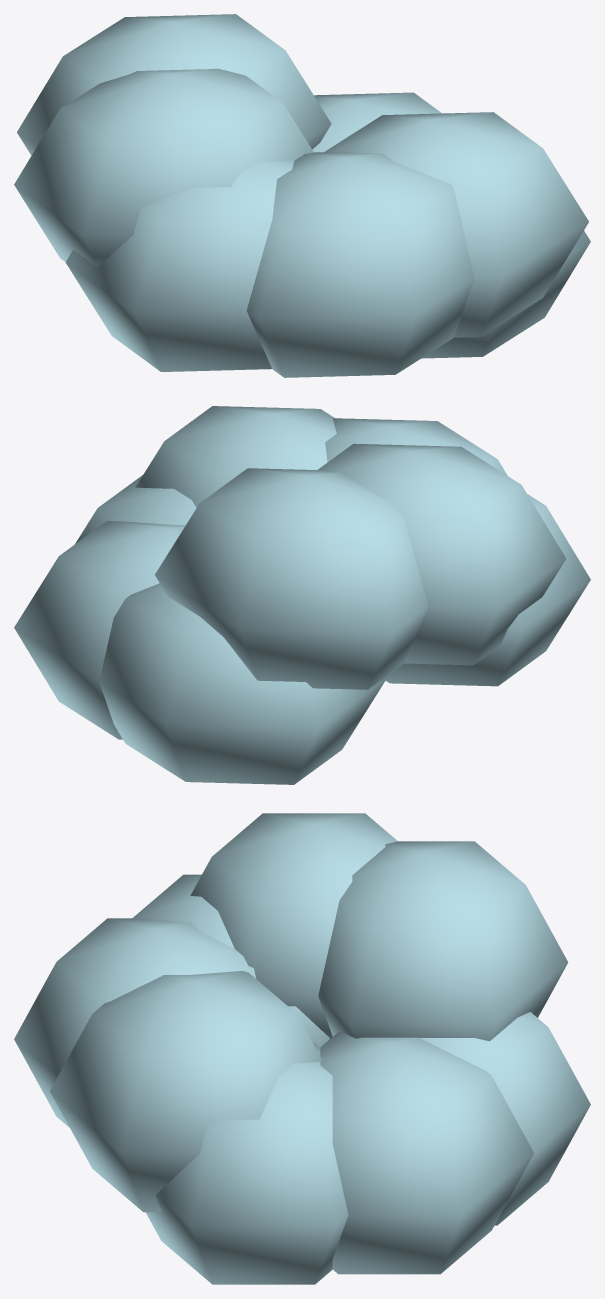
File: sea-ice.glb
3 renders of one model, top to bottom at view 1: azimuth 30°, elevation 25°; view 2: azimuth 150°, elevation 25°; view 3: azimuth 270°, elevation 25°, orthographic. The views are drawn at different scales.
Visible parts, largest first — view 1: sea-ice; view 2: sea-ice; view 3: sea-ice.
Part boxes in pixels (<box>): sea-ice: <box>14,14,590,377</box>; sea-ice: <box>14,406,590,784</box>; sea-ice: <box>14,813,590,1284</box>.
Bounding box in the file's own units: 2.39 × 1.5 × 2.39.
